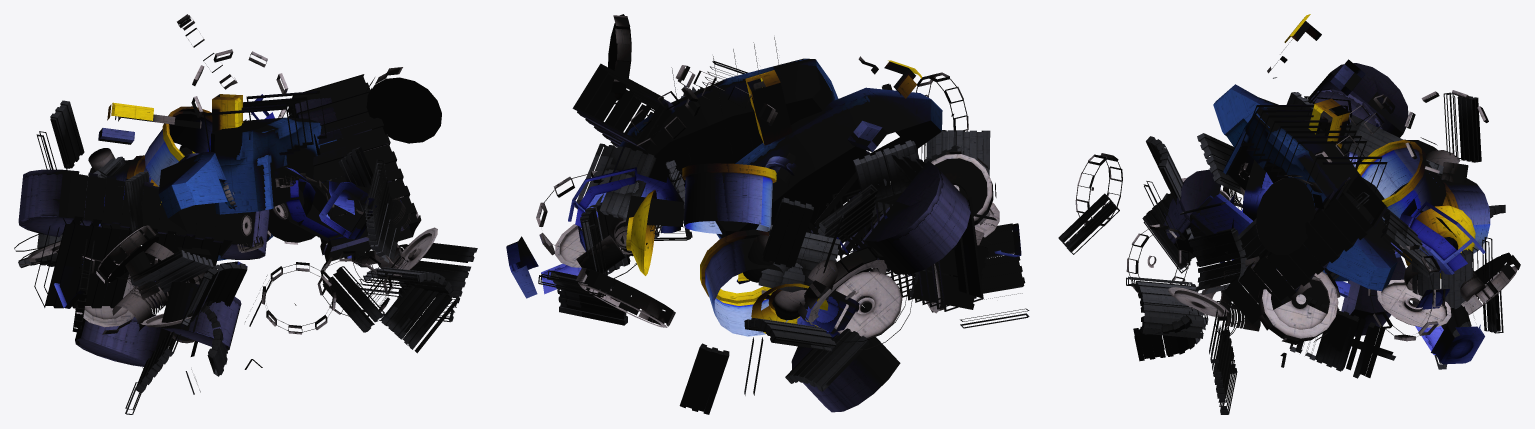
The model's file is PlayerB_die16.obj.
The picture shows the model from 3 angles, left to right: view 1: azimuth 30°, elevation 25°; view 2: azimuth 150°, elevation 25°; view 3: azimuth 270°, elevation 25°; orthographic projection. The views are drawn at different scales.
Visible parts, largest first — view 1: Object005; view 2: Object005; view 3: Object005.
Boxes of the visible parts, <box> form: Object005: <box>14,14,477,414</box>; Object005: <box>506,14,1029,414</box>; Object005: <box>1058,14,1520,414</box>.
Size of the model in its own units: 230 by 168 by 238.
Materials: 2 (2 with a texture image).
